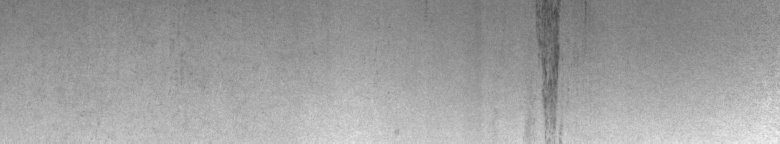hd: (532, 4, 572, 136)
